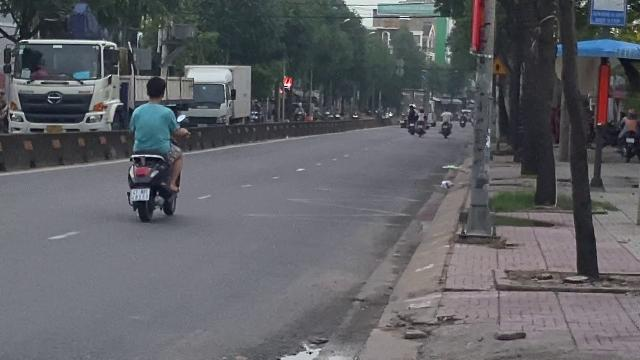licenseplate: (131, 188, 149, 199)
motorcyclist: (122, 74, 186, 222)
nohelmet: (144, 75, 166, 101)
